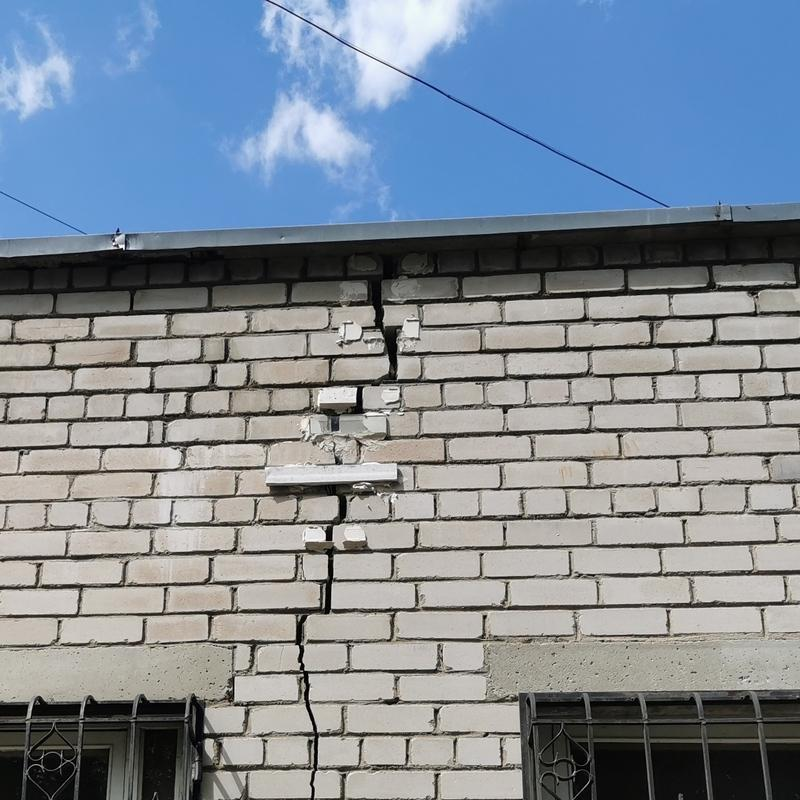crack: (295, 612, 319, 799), (371, 252, 398, 383), (325, 484, 347, 543), (321, 548, 335, 615), (348, 382, 365, 417), (318, 581, 324, 609)
